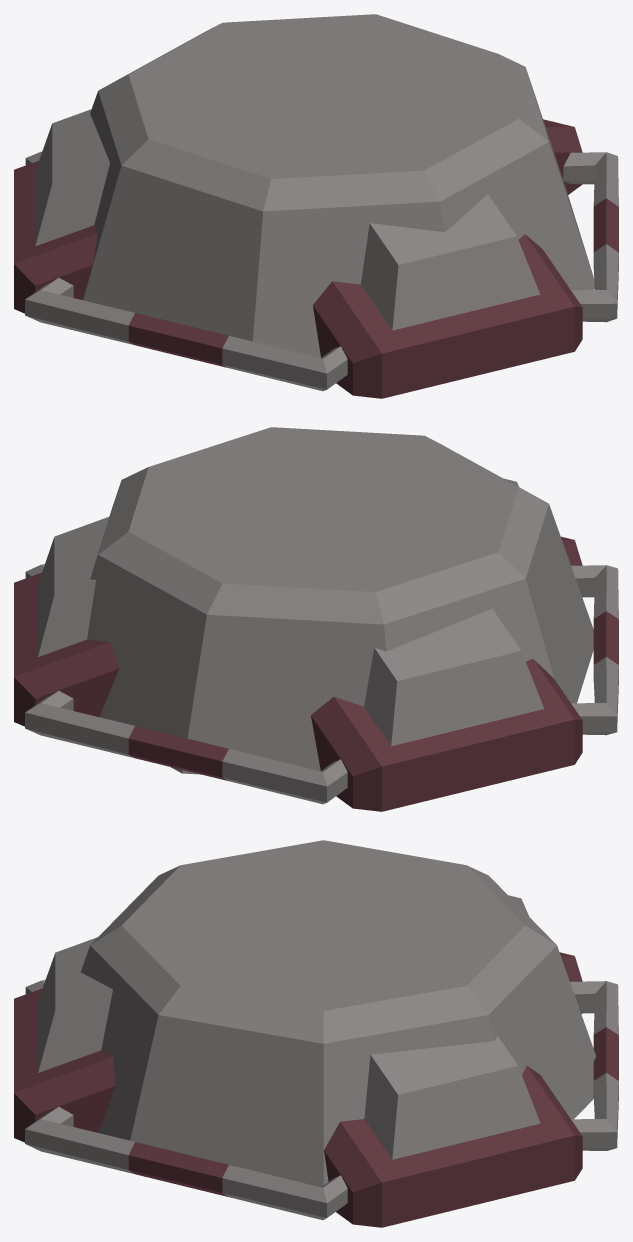
The model's file is scifi-turret-base-circle-big.fbx.
3 views of the same model, one above another, from view 1: azimuth 30°, elevation 25°; view 2: azimuth 150°, elevation 25°; view 3: azimuth 270°, elevation 25° (orthographic).
Parts seen in each view (by area): view 1: scifi-turret-base-circle-big; view 2: scifi-turret-base-circle-big; view 3: scifi-turret-base-circle-big.
Boxes of the visible parts, x1,y1,x2,y2 form: scifi-turret-base-circle-big: (14,14,618,398); scifi-turret-base-circle-big: (14,427,618,811); scifi-turret-base-circle-big: (14,840,618,1227).
Bounding box in the file's own units: 5.03 × 1.34 × 4.45.
